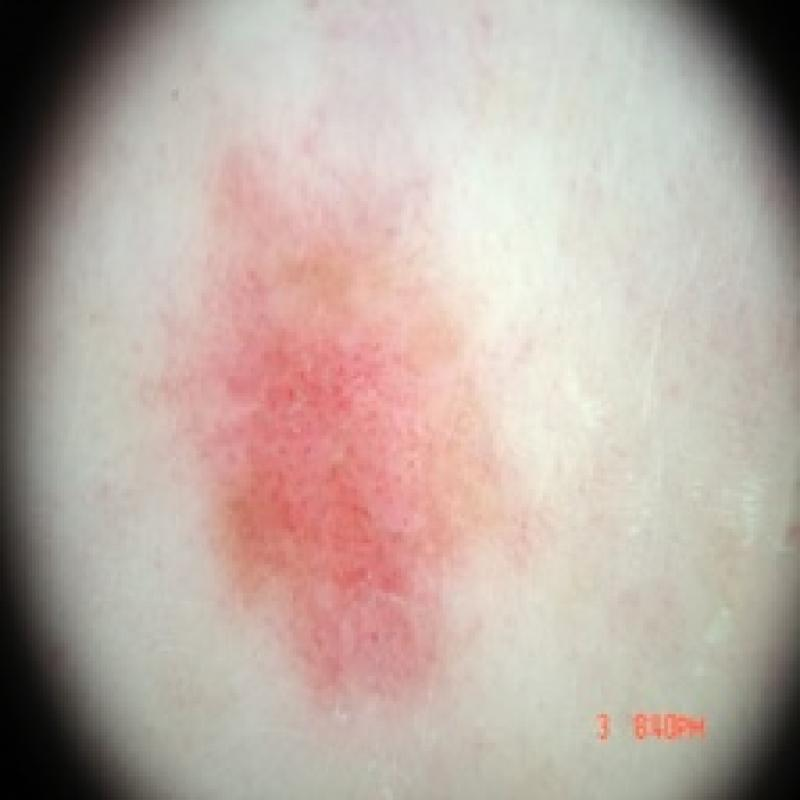malignant: (169, 127, 507, 730)
